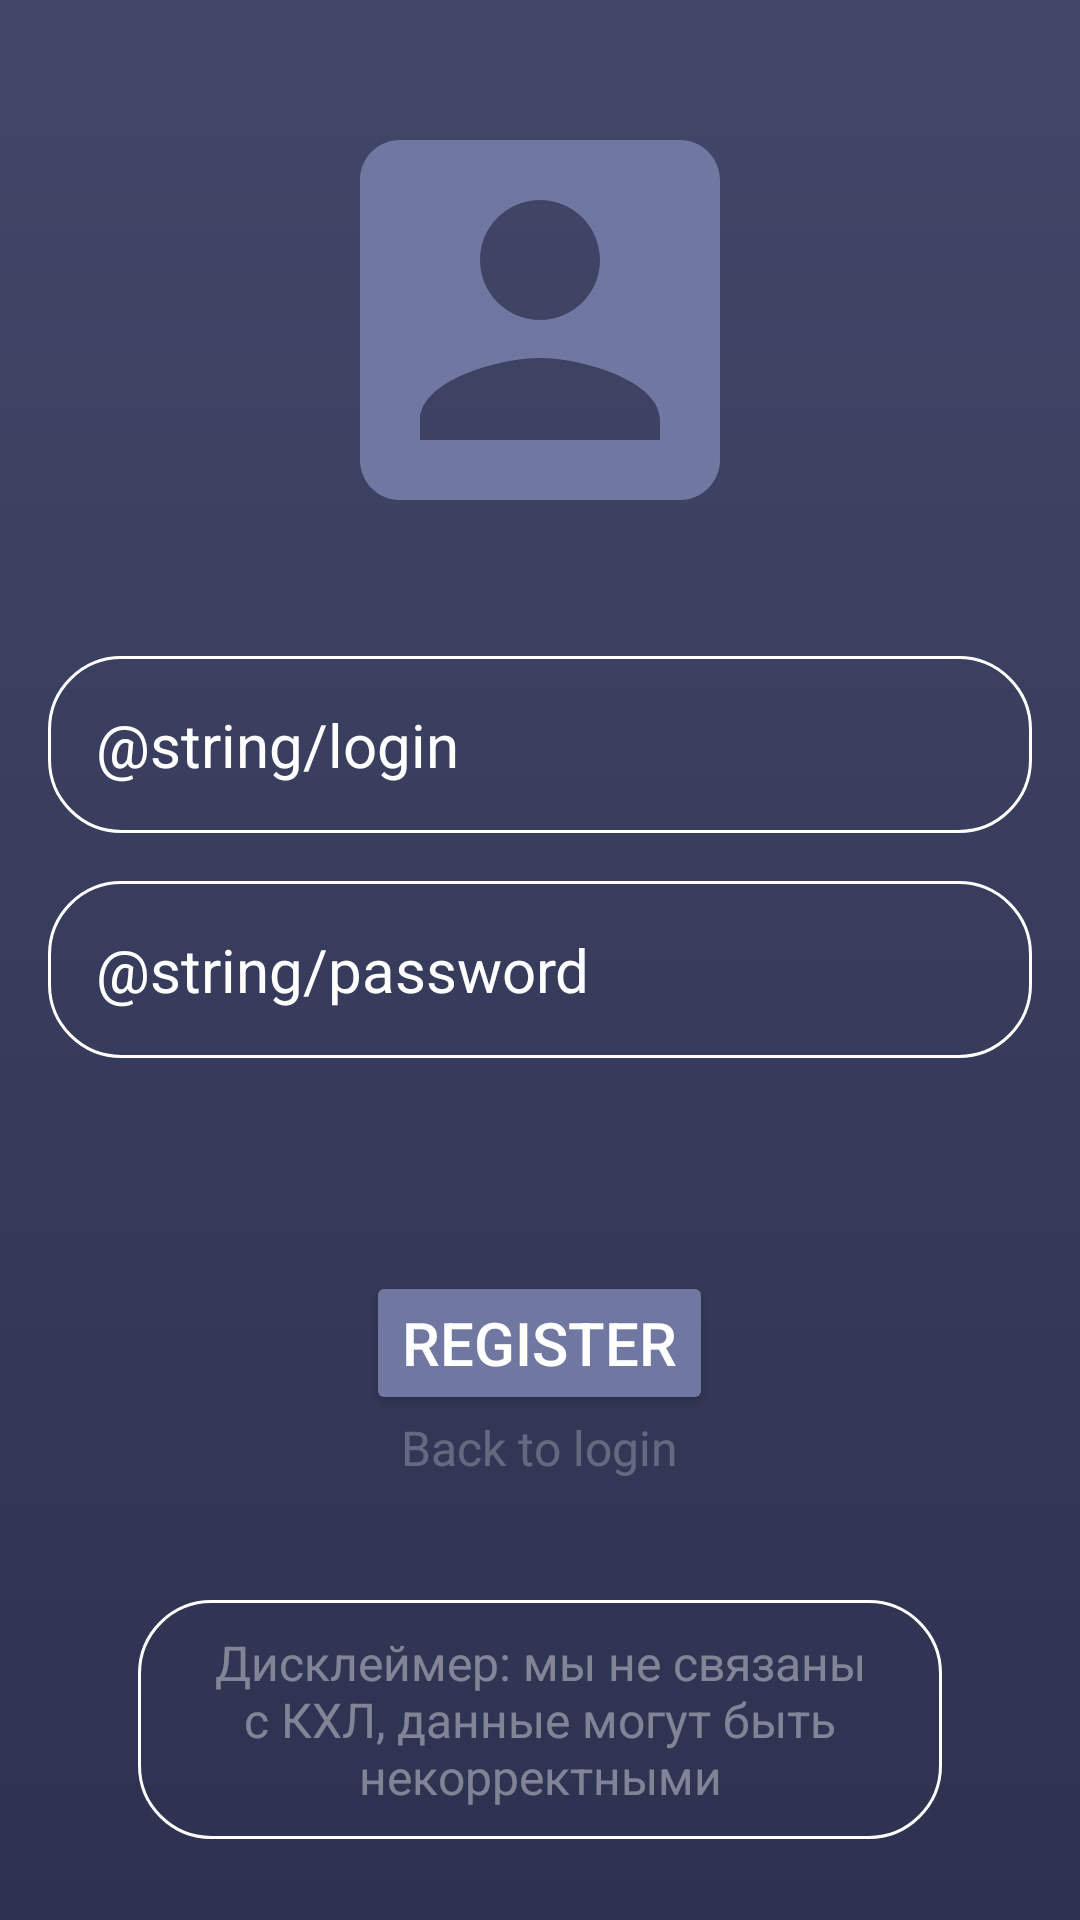

Locate icon controls on the screen. Image size 1080*1920, boxes as {"left": x1, "top": y1, "right": x2, "bottom": y2}.
account box: {"left": 360, "top": 140, "right": 720, "bottom": 500}
